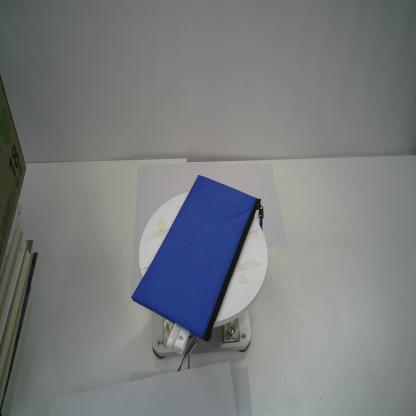Stationery: (130, 175, 263, 343)
